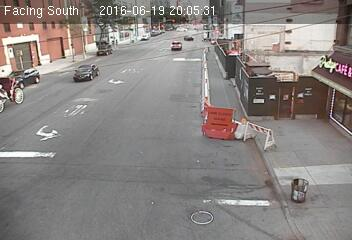neg: (16, 75, 40, 107), (99, 190, 122, 222), (50, 113, 71, 141), (128, 31, 149, 58), (32, 183, 52, 210), (291, 170, 311, 196), (258, 66, 278, 92), (178, 56, 197, 83), (194, 112, 213, 138), (230, 117, 249, 142), (27, 39, 46, 64), (71, 84, 89, 108), (313, 34, 330, 56), (220, 171, 236, 193), (128, 145, 144, 166), (78, 149, 94, 169), (223, 39, 238, 59), (143, 81, 158, 100), (170, 167, 184, 186), (196, 198, 210, 217), (310, 95, 324, 114), (91, 58, 104, 77)
